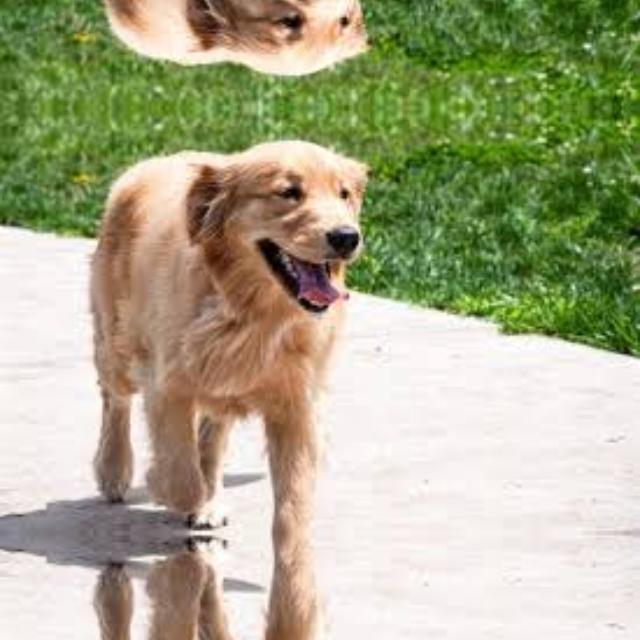dog: (63, 133, 369, 533), (63, 533, 369, 640), (63, 0, 369, 81)
